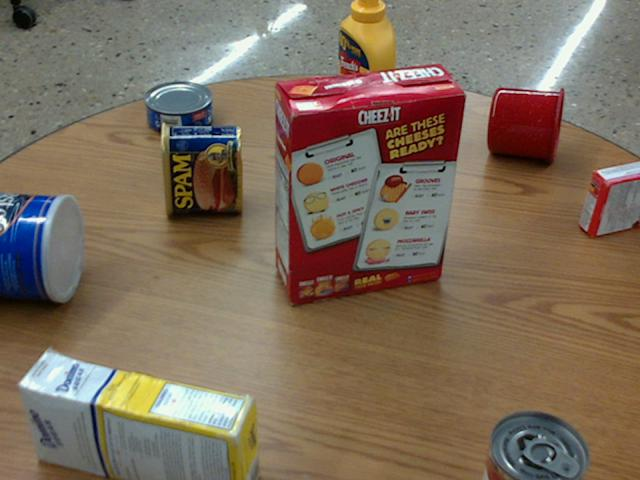cracker_box: (273, 62, 465, 302)
gelatin_box: (580, 163, 639, 237)
master_chef_can: (0, 192, 85, 301)
mug: (488, 85, 562, 162)
mustard_bottle: (336, 0, 393, 147)
potted_meat_can: (161, 121, 241, 214)
sugar_box: (15, 352, 258, 479)
tomato_soup_can: (484, 409, 589, 479)
tuna_fish_can: (145, 79, 213, 134)
